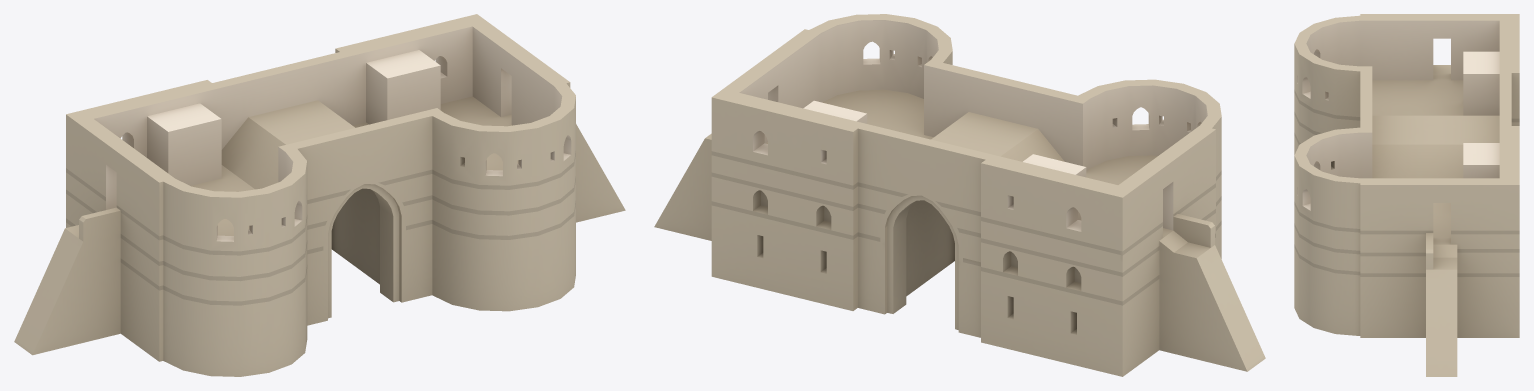
3 renders of one model, left to right at view 1: azimuth 30°, elevation 25°; view 2: azimuth 150°, elevation 25°; view 3: azimuth 270°, elevation 25°, orthographic. The views are drawn at different scales.
Parts seen in each view (by area): view 1: txt; view 2: txt; view 3: txt.
Part boxes in pixels (x1,y1,x2,y2): txt: [14, 14, 625, 376]; txt: [654, 14, 1265, 376]; txt: [1294, 14, 1519, 376].
Bounding box in the file's own units: 29.44 × 8.5 × 11.35.
Materials: 1 (1 with a texture image).
